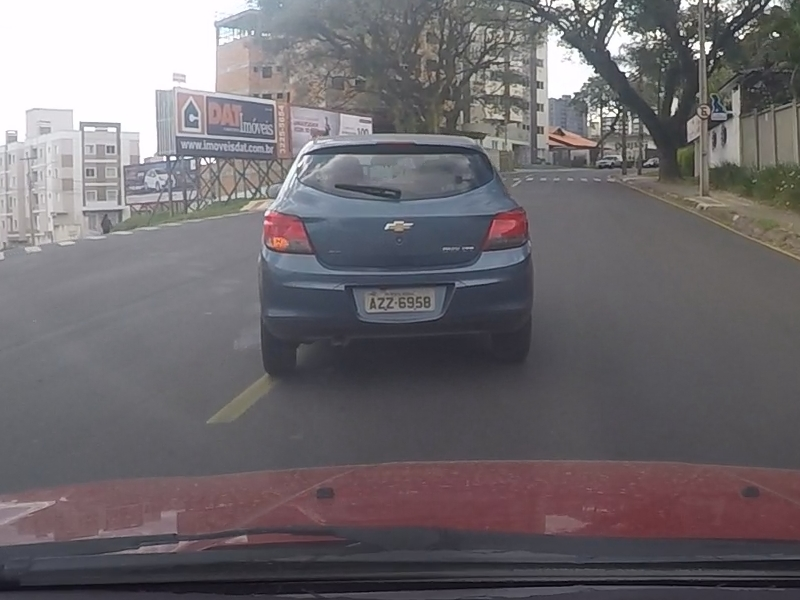placa: (365, 288, 435, 313)
